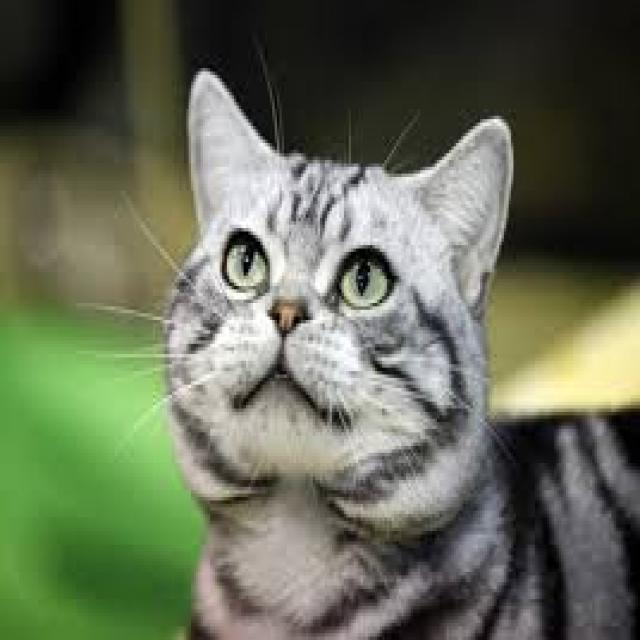cat-face: (105, 53, 548, 543)
